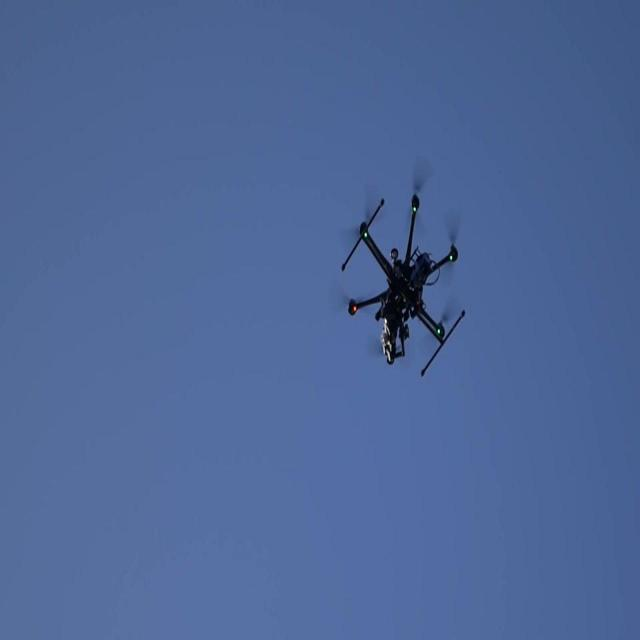UAV: (339, 180, 467, 378)
